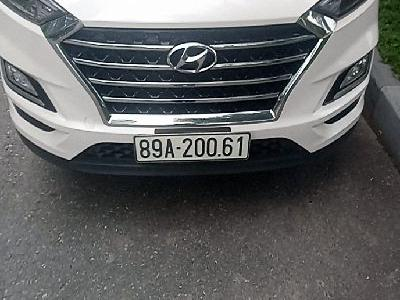lisence: (133, 133, 251, 163)
